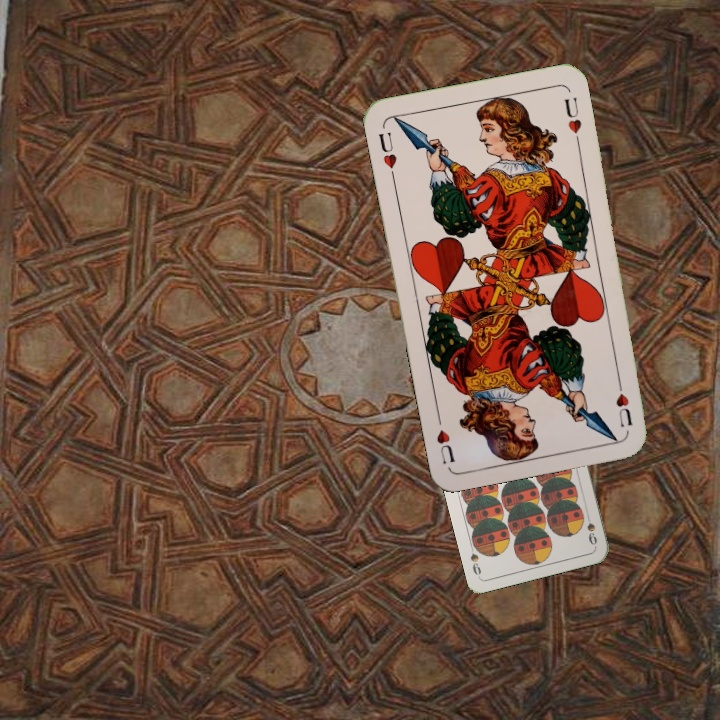HU: (374, 127, 399, 182), (612, 373, 635, 430)
S9: (583, 516, 600, 548)
